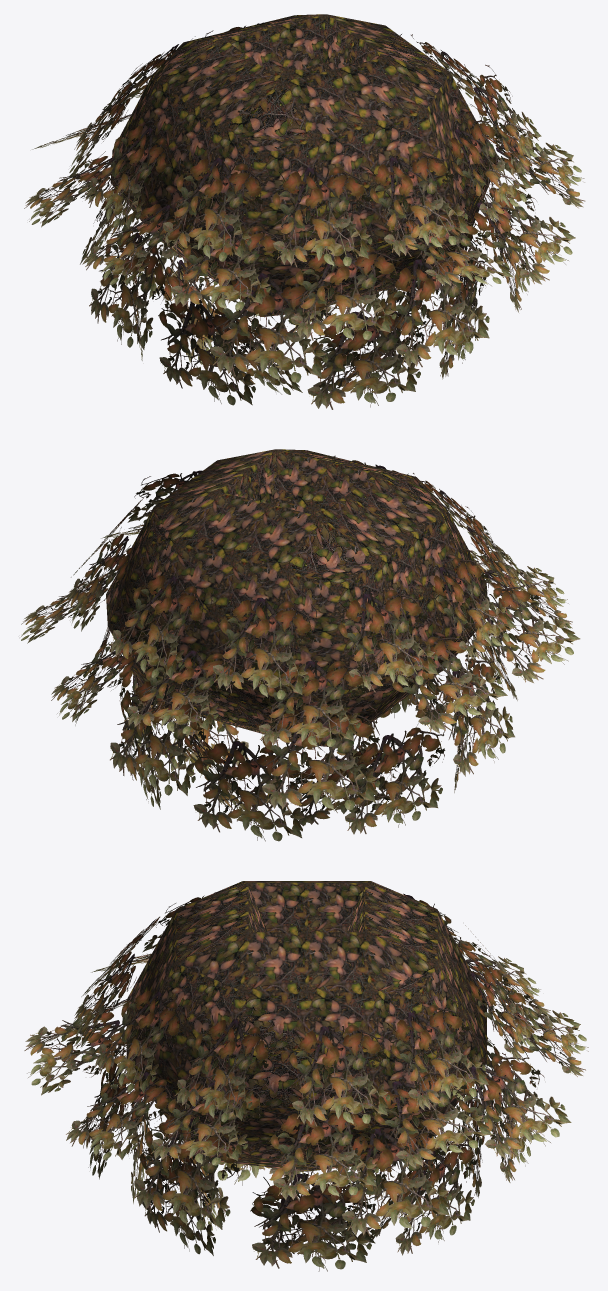
The model's file is poi_all_lair_leaf_large_l2.fbx.
3 renders of one model, top to bottom at view 1: azimuth 30°, elevation 25°; view 2: azimuth 150°, elevation 25°; view 3: azimuth 270°, elevation 25°, orthographic.
Visible parts, largest first — view 1: mesh_node; view 2: mesh_node; view 3: mesh_node.
Part boxes in pixels (x1=…): mesh_node: x1=24, y1=14, x2=585, y2=409; mesh_node: x1=21, y1=449, x2=580, y2=841; mesh_node: x1=24, y1=881, x2=588, y2=1271.
Size of the model in its own units: 5.04 by 3.15 by 5.1.
Materials: 2 (2 with a texture image).
